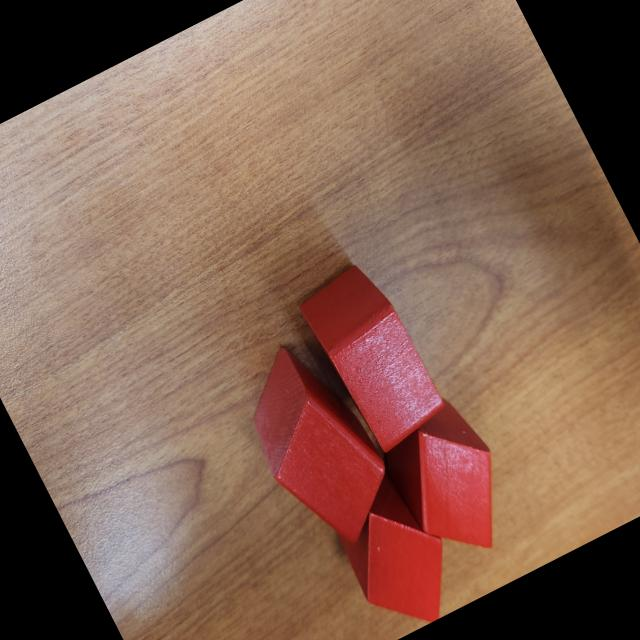red: (221, 327, 413, 566), (291, 256, 453, 459), (368, 386, 534, 580), (325, 472, 472, 640)
